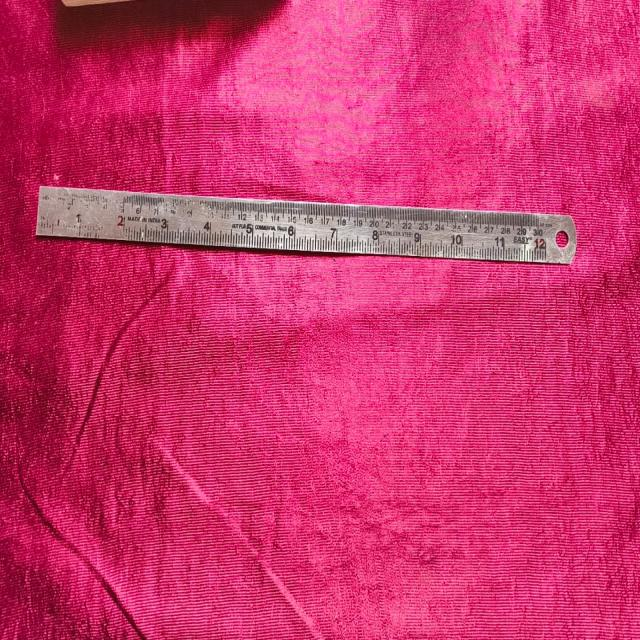scale: (37, 180, 584, 262)
